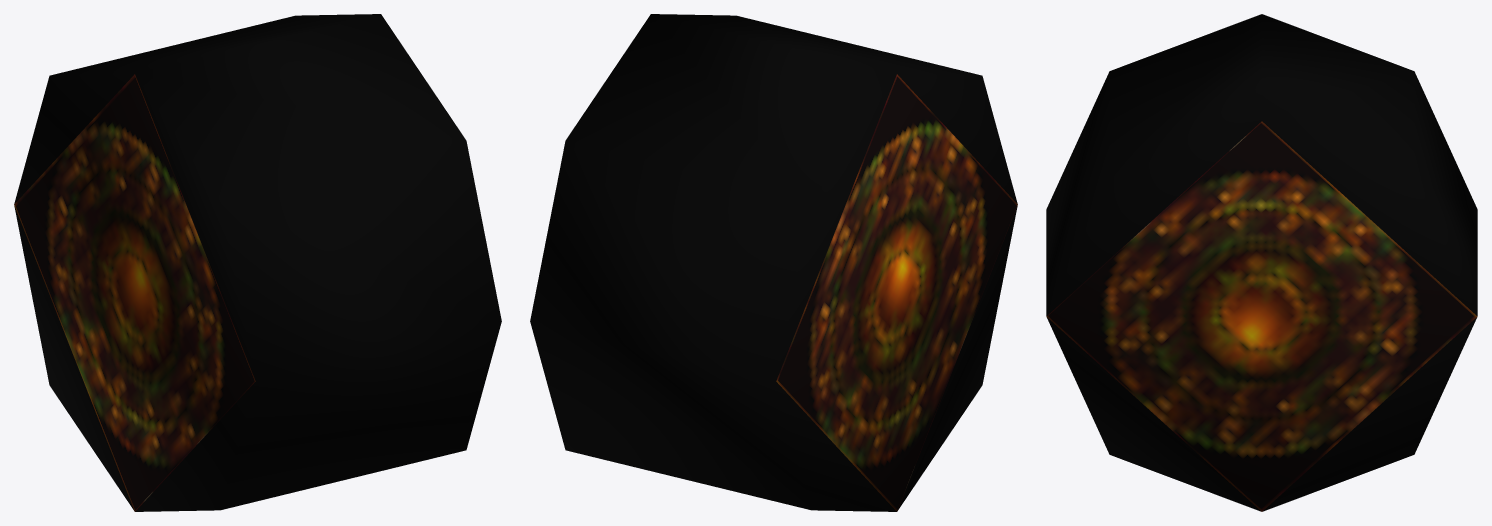
File: WheelFrontR.obj
The picture shows the model from 3 angles, left to right: view 1: azimuth 30°, elevation 25°; view 2: azimuth 150°, elevation 25°; view 3: azimuth 270°, elevation 25°; orthographic projection. The views are drawn at different scales.
Visible parts, largest first — view 1: WheelFrontR; view 2: WheelFrontR; view 3: WheelFrontR.
Boxes of the visible parts, x1,y1,x2,y2 form: WheelFrontR: [14, 14, 501, 511]; WheelFrontR: [530, 14, 1017, 511]; WheelFrontR: [1046, 14, 1477, 511].
Size of the model in its own units: 0.6643 by 1.13 by 1.13.
Materials: 2 (1 with a texture image).
